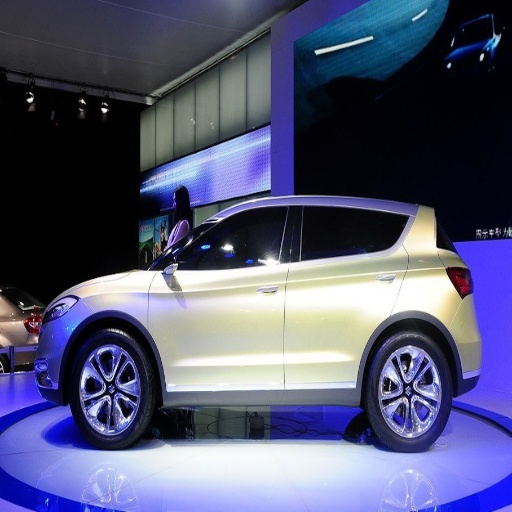back_left_door: (285, 204, 406, 391)
front_left_door: (150, 204, 295, 401)
